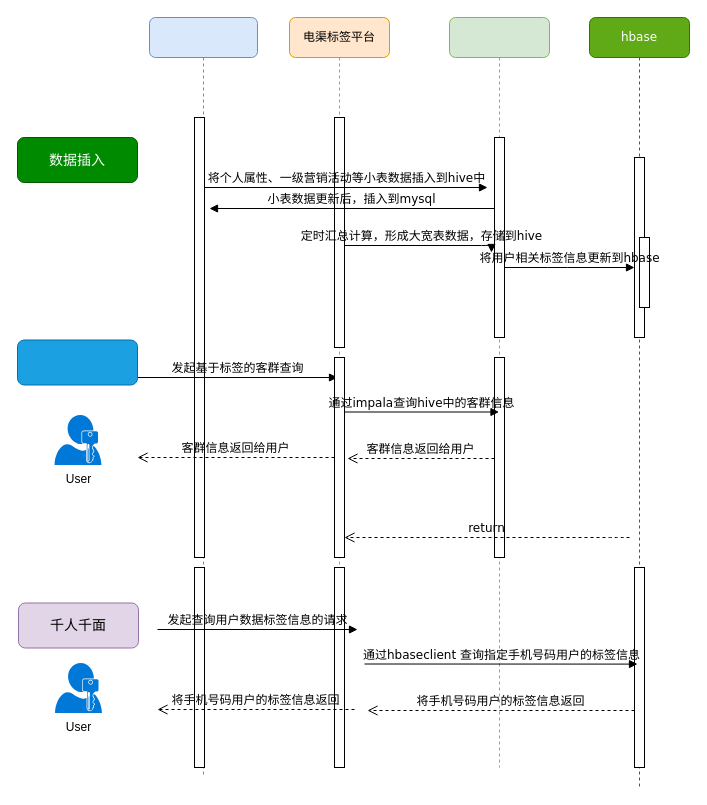
The diagram is 707 pixels wide and 805 high, and some of its shapes have lost their labels. The centre of each missing label's shape, as x and y in pixels:
"hive" goes at (499,392).
"客群查询" goes at (77,362).
"思特奇业务子系统" goes at (203,397).
